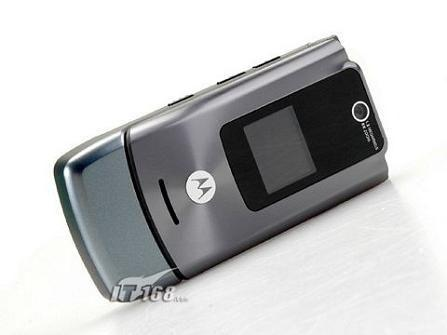phone: (54, 36, 393, 302)
